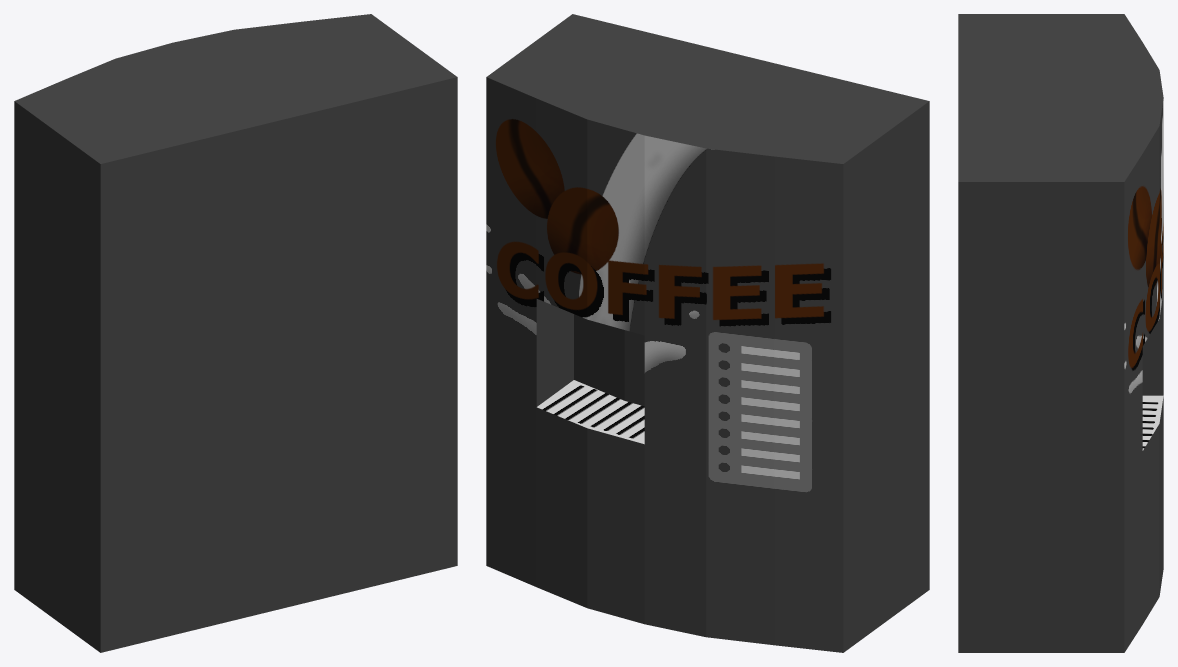
The model's file is coffee_automat.fbx.
3 views of the same model, side by side, from view 1: azimuth 30°, elevation 25°; view 2: azimuth 150°, elevation 25°; view 3: azimuth 270°, elevation 25° (orthographic). The views are drawn at different scales.
Parts seen in each view (by area): view 1: Cube.030; view 2: Cube.030; view 3: Cube.030.
Part boxes in pixels (bbox=[...]): Cube.030: bbox=[14, 14, 457, 652]; Cube.030: bbox=[486, 14, 929, 652]; Cube.030: bbox=[958, 14, 1163, 652].
Size of the model in its own units: 200 by 262 by 103.
